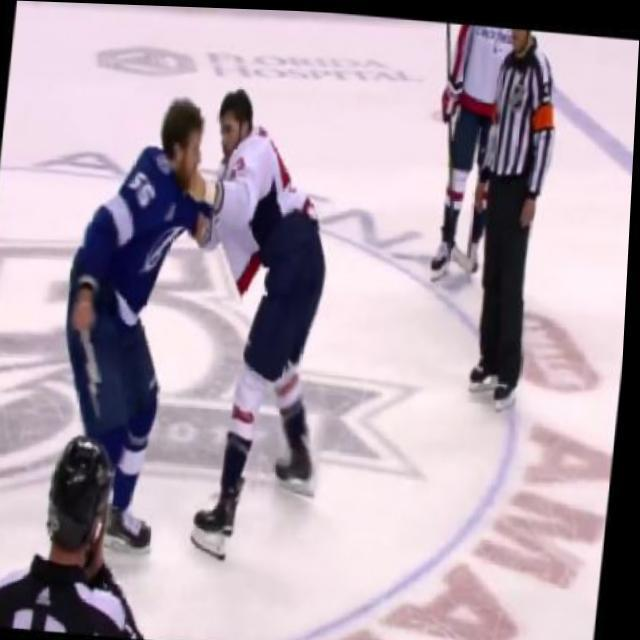fight: (49, 78, 360, 536)
